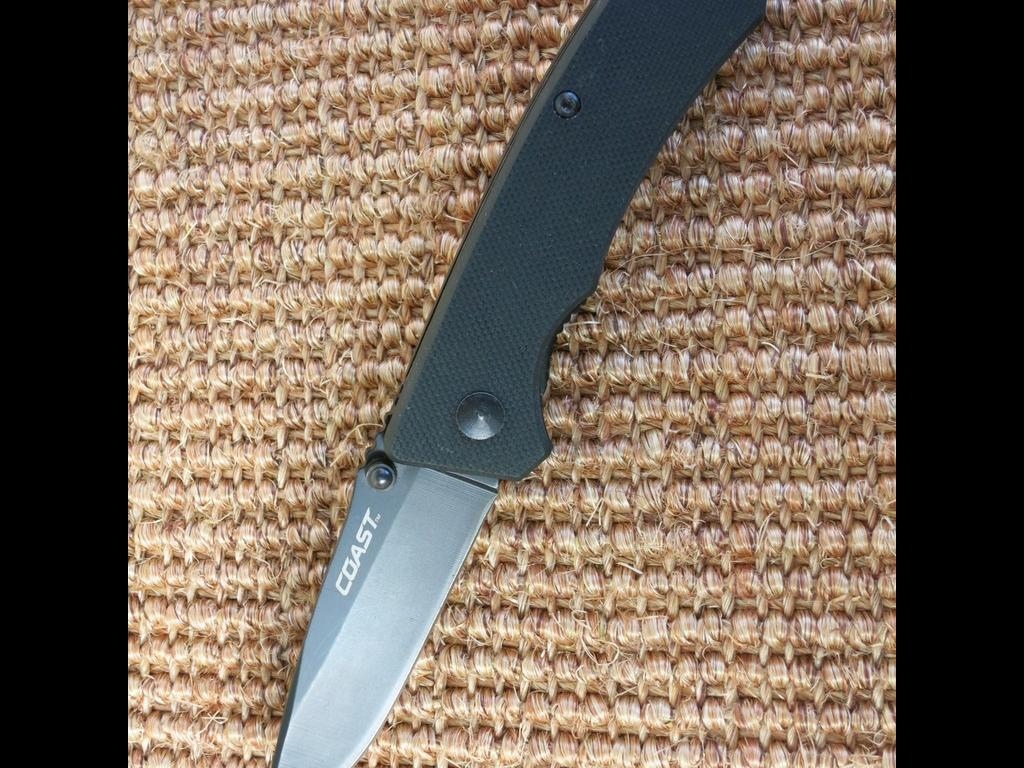melee: (254, 0, 779, 768)
